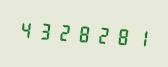eight: (74, 19, 92, 47), (112, 22, 130, 50)
four: (17, 15, 35, 43)
one: (131, 23, 149, 51)
three: (36, 16, 54, 44)
two: (55, 18, 73, 46), (93, 20, 111, 48)
